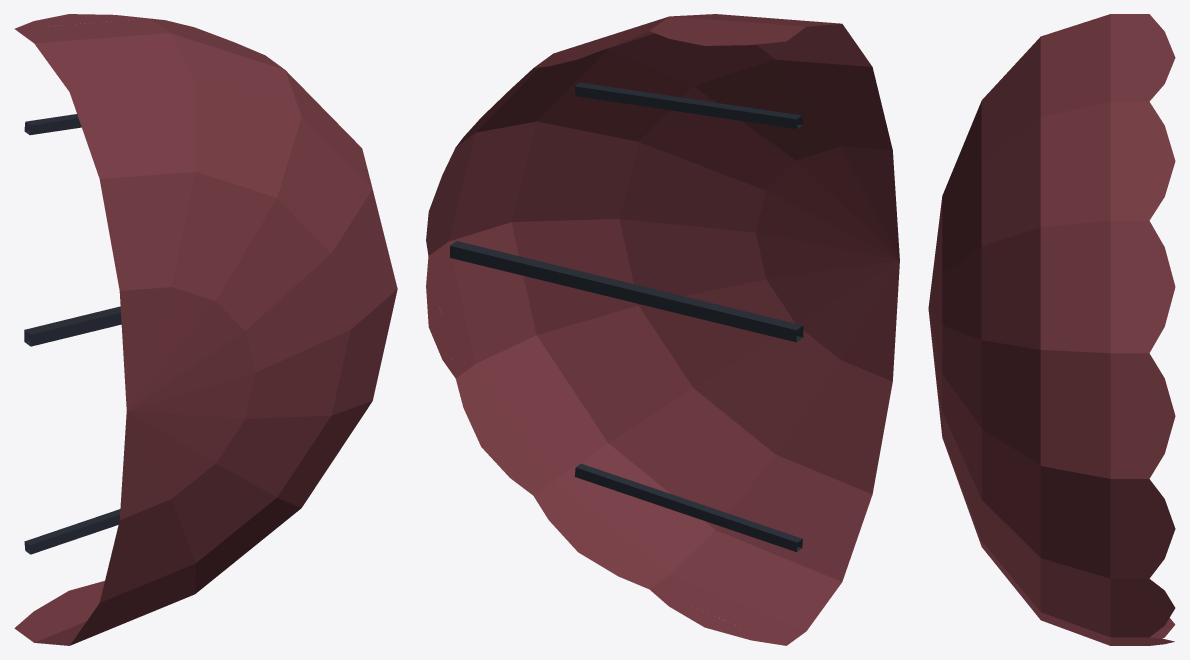
Rendered from keep-wd01_147.obj.
3 renders of one model, left to right at view 1: azimuth 30°, elevation 25°; view 2: azimuth 150°, elevation 25°; view 3: azimuth 270°, elevation 25°, orthographic. The views are drawn at different scales.
Bounding box in the file's own units: 0.6207 × 1 × 0.38.
Materials: 1 (1 with a texture image).
